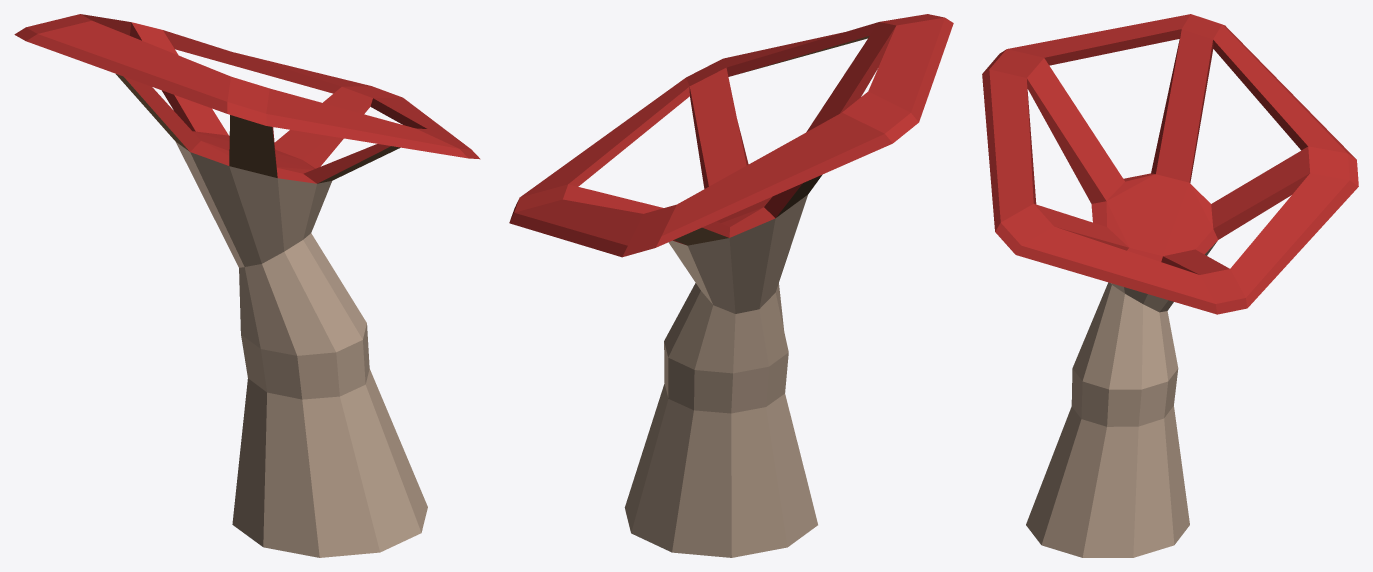
Rendered from Mushrooms4.fbx.
The picture shows the model from 3 angles, left to right: view 1: azimuth 30°, elevation 25°; view 2: azimuth 150°, elevation 25°; view 3: azimuth 270°, elevation 25°; orthographic projection. The views are drawn at different scales.
Visible parts, largest first — view 1: Mr4_mesh_LOD0; view 2: Mr4_mesh_LOD0; view 3: Mr4_mesh_LOD0.
Part boxes in pixels (bbox=[...]): Mr4_mesh_LOD0: bbox=[14, 14, 480, 557]; Mr4_mesh_LOD0: bbox=[509, 14, 953, 557]; Mr4_mesh_LOD0: bbox=[982, 14, 1358, 557].
Bounding box in the file's own units: 11.39 × 14.05 × 11.47.
